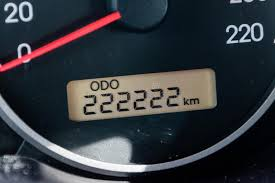Digital_Meter: (63, 71, 234, 114)
